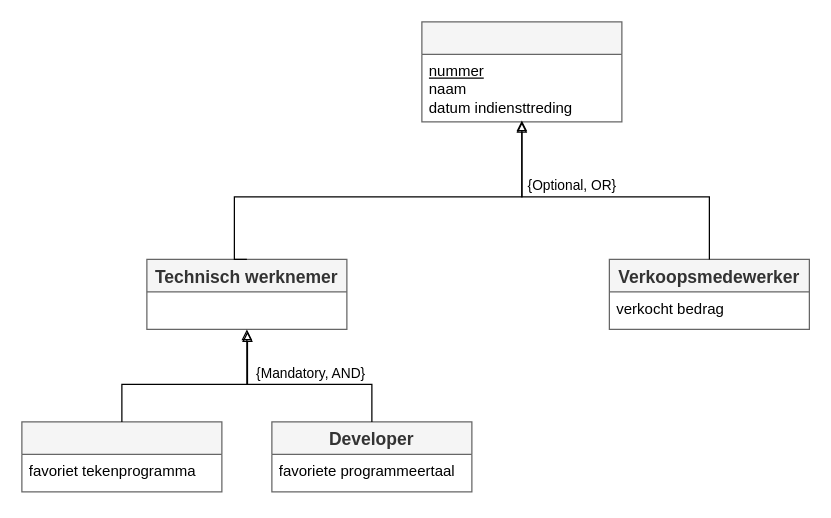
Some shapes in this 831 by 518 pixel diagram are drawn without their labels. The shapes that lost their labels are listed below. From the top down, each one's box as (x1, y1, x2, y2) in pixels, then its label:
(421, 21, 622, 122): Werknemer
(21, 421, 222, 492): Ontwerper
